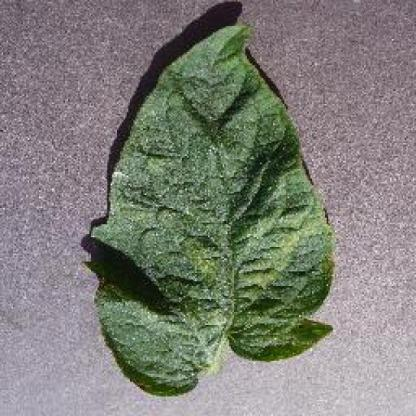Tomato_Spider_Mites: (95, 25, 332, 389)
